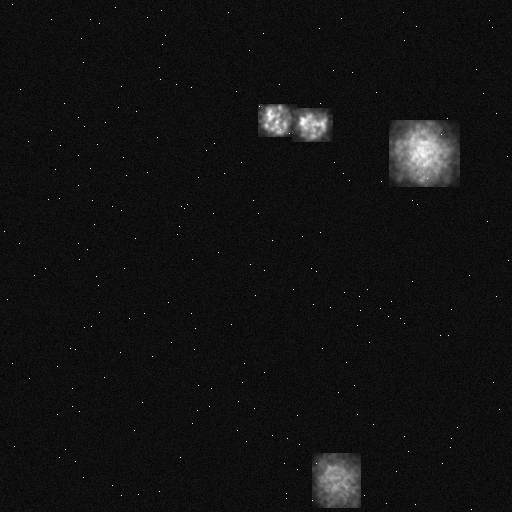lam1: (292, 108, 332, 141), (258, 104, 296, 136)
lam3: (389, 120, 459, 186), (312, 453, 360, 507)
